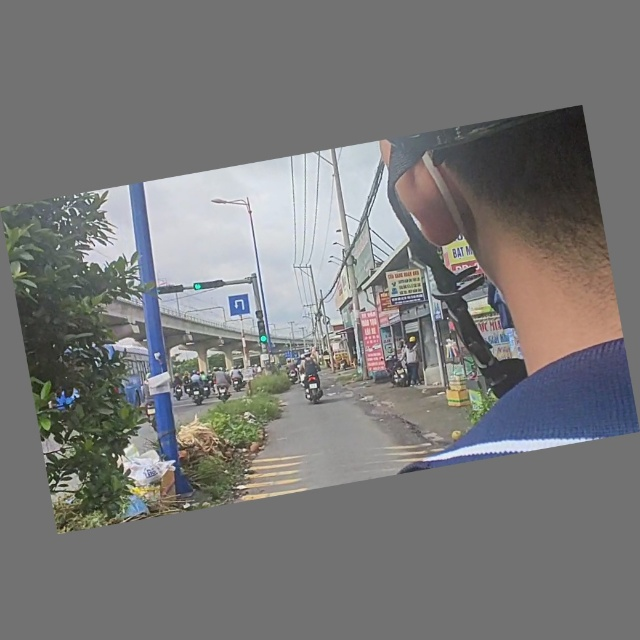I.409: (226, 292, 254, 320)
